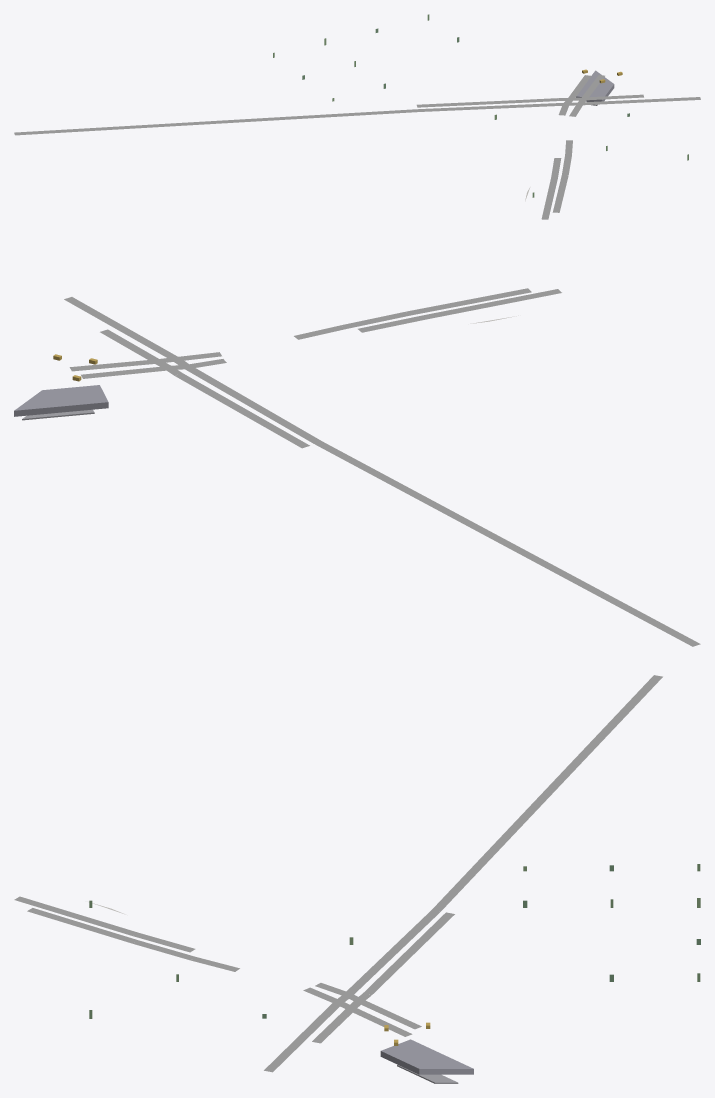
3 views of the same model, one above another, from view 1: azimuth 30°, elevation 25°; view 2: azimuth 150°, elevation 25°; view 3: azimuth 270°, elevation 25° (orthographic). The views are drawn at different scales.
Bounding box in the file's own units: 646 × 36.81 × 475.
